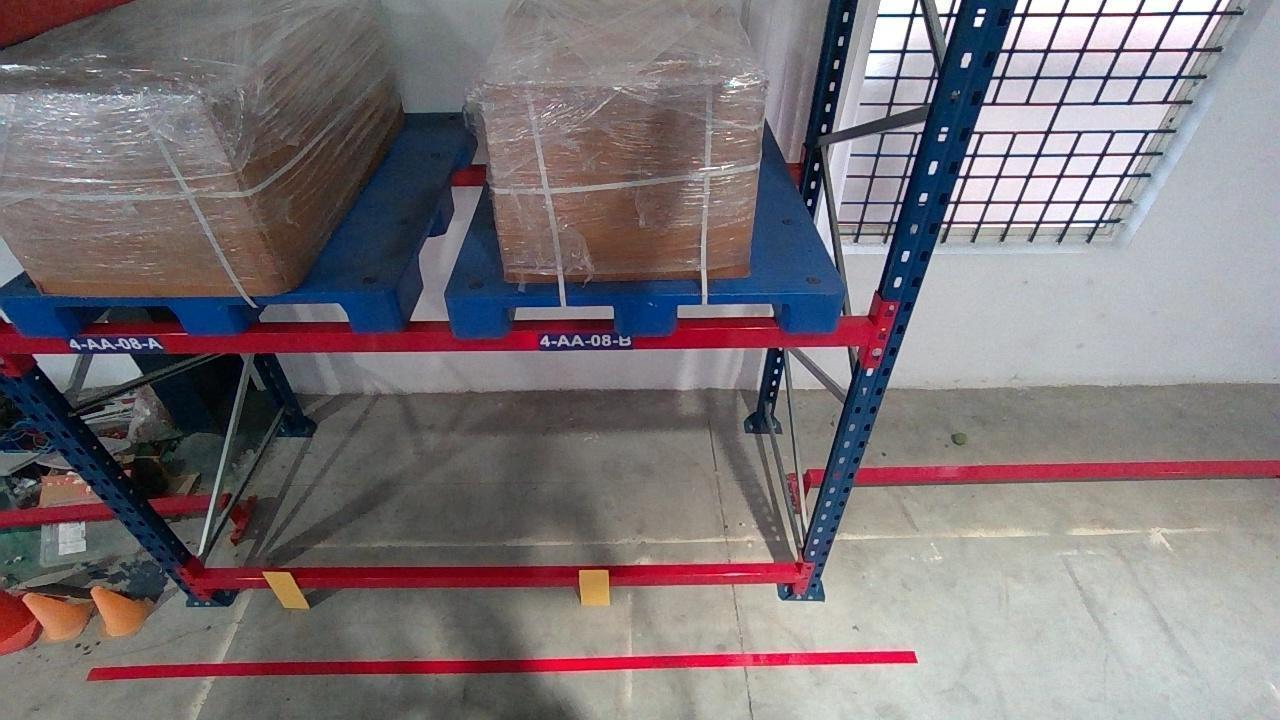red_line: (84, 650, 919, 676)
